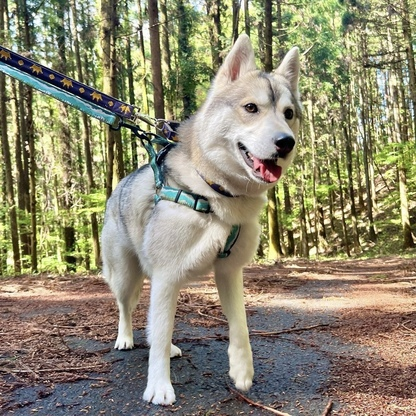husky: (95, 27, 310, 409)
